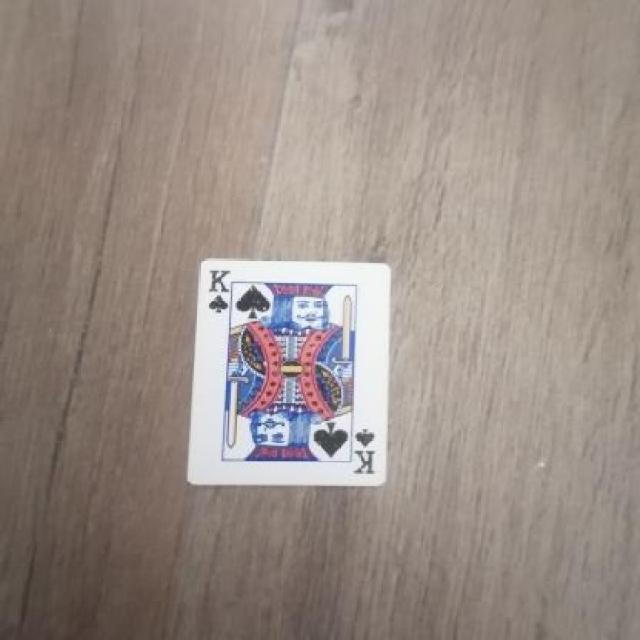KS: (342, 420, 378, 482), (202, 266, 241, 320)
